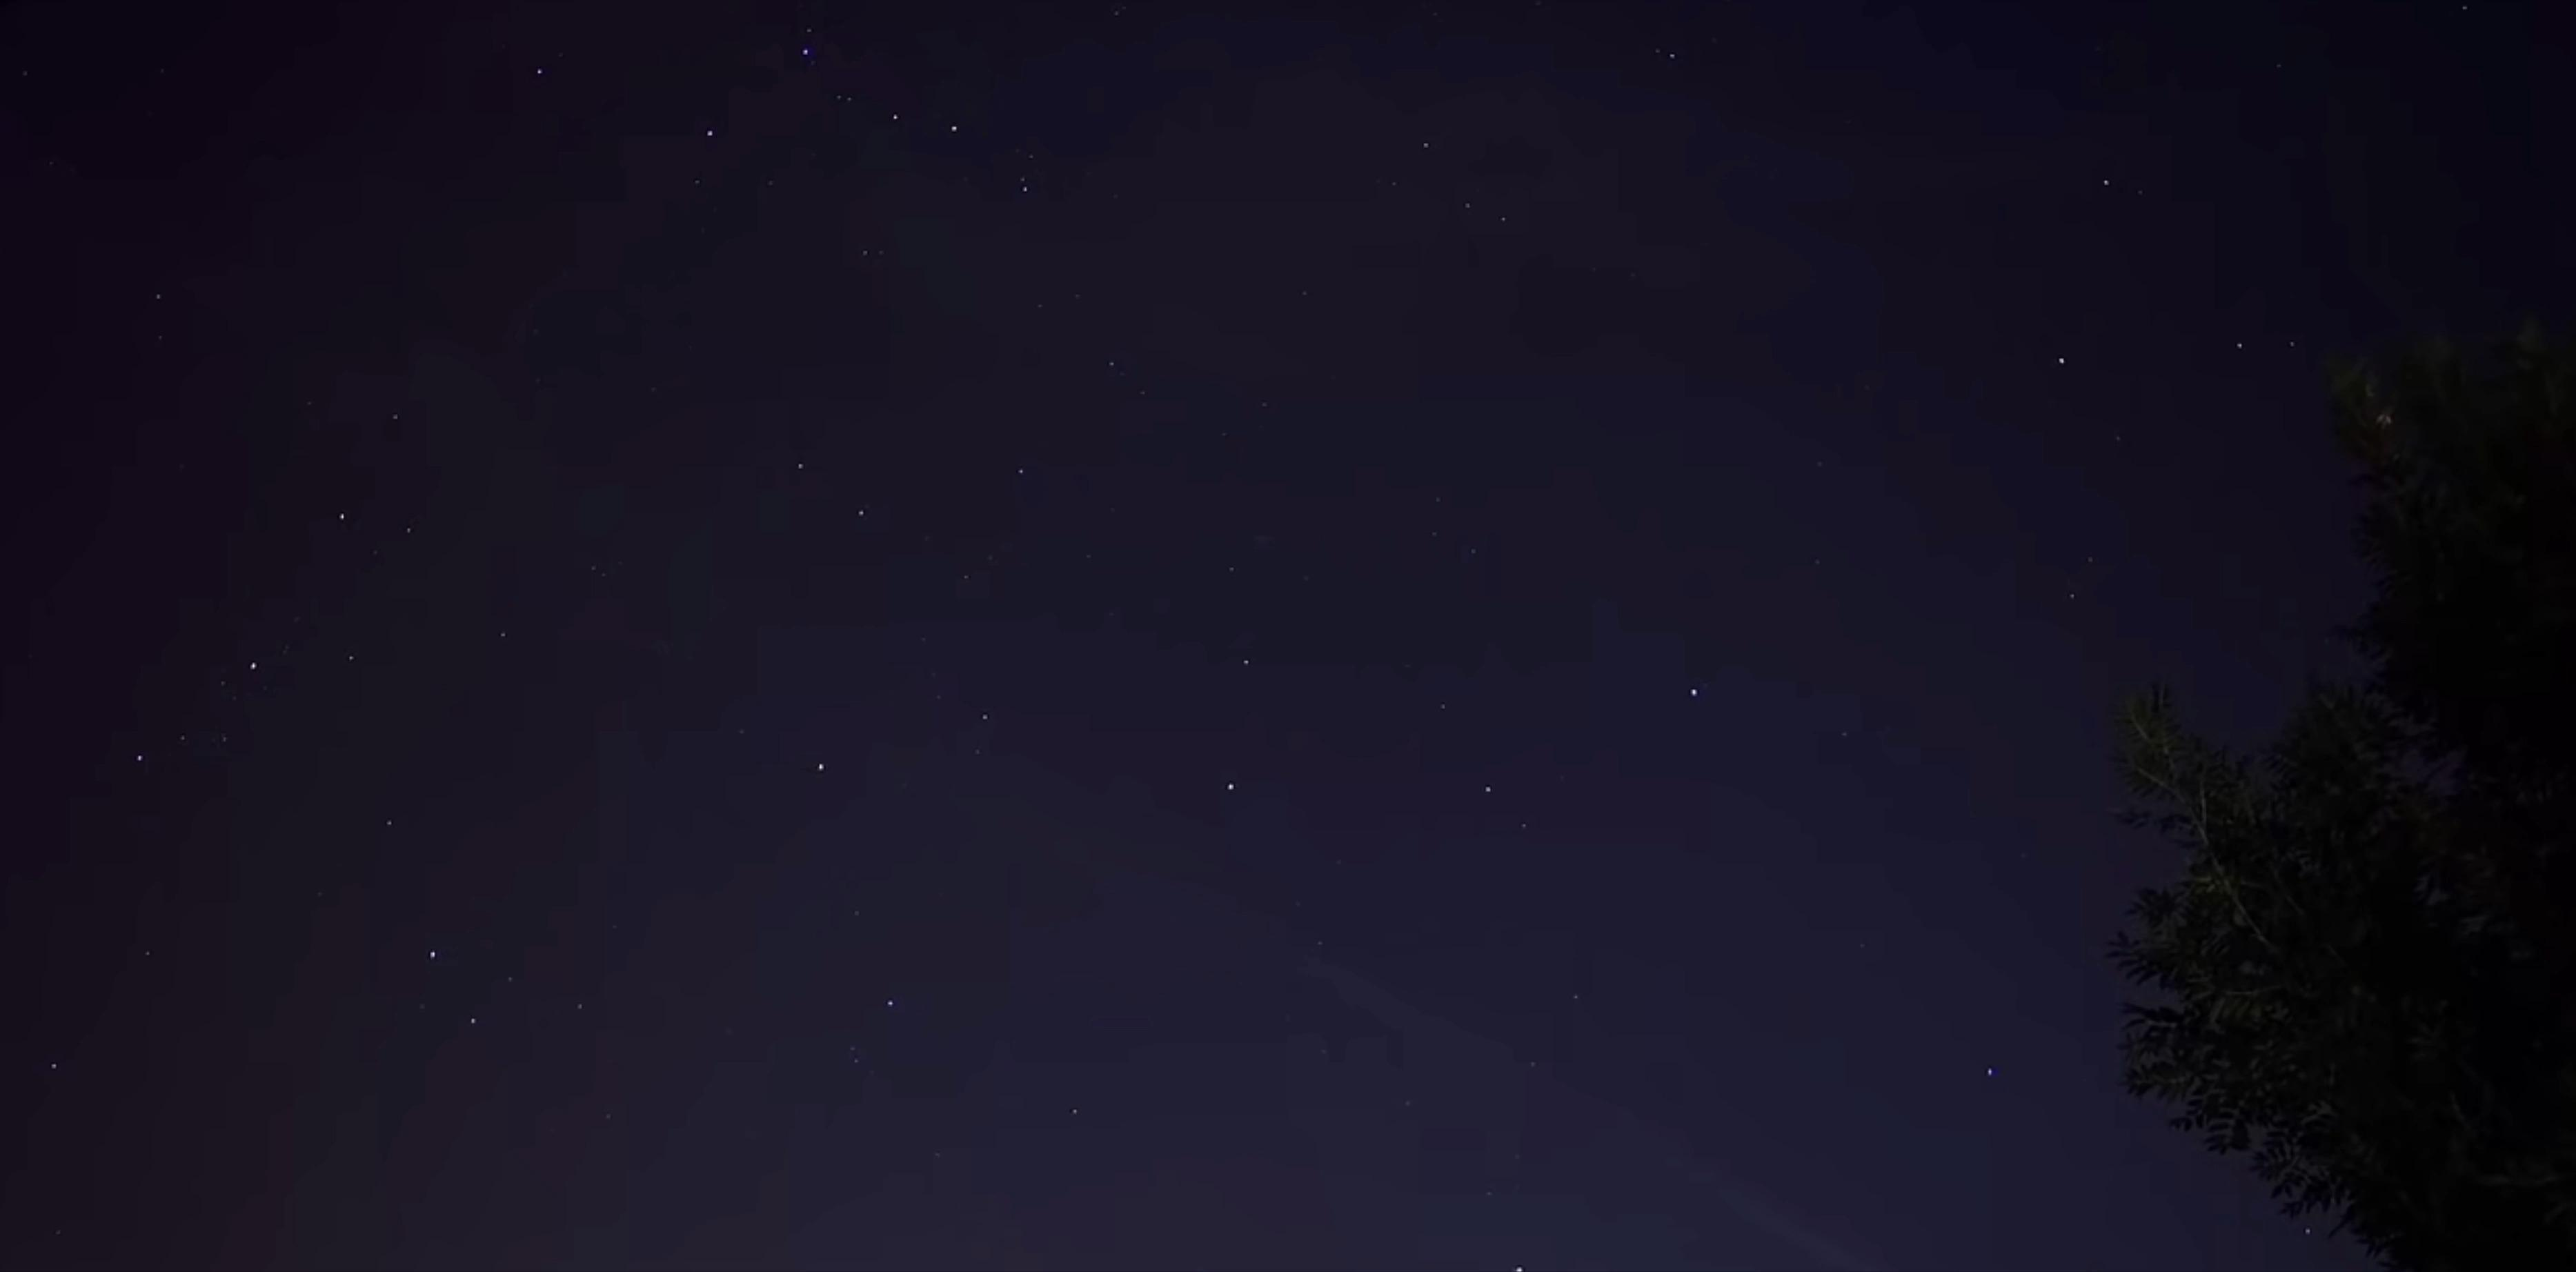Plane: (1506, 1259, 1536, 1272)
